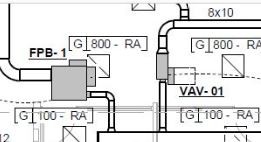VAV: (151, 41, 176, 91)
